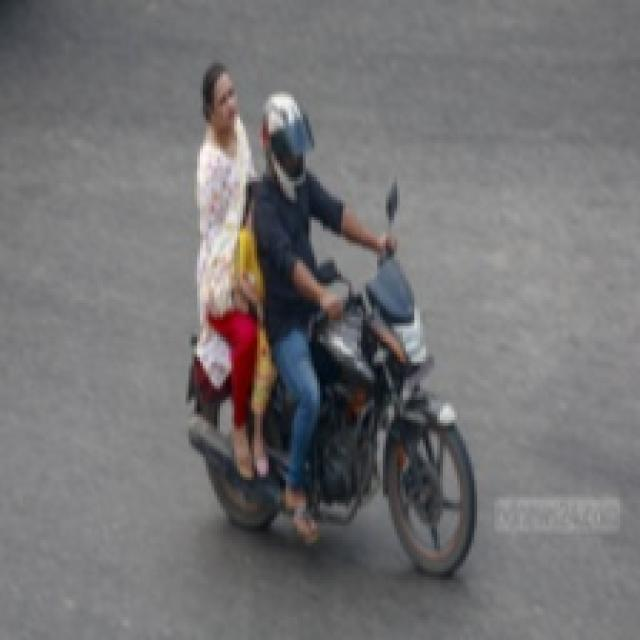bike: (186, 233, 481, 568)
